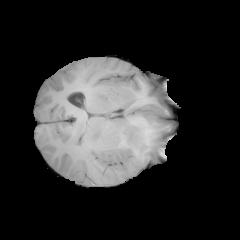glioma: (106, 109, 170, 157)
